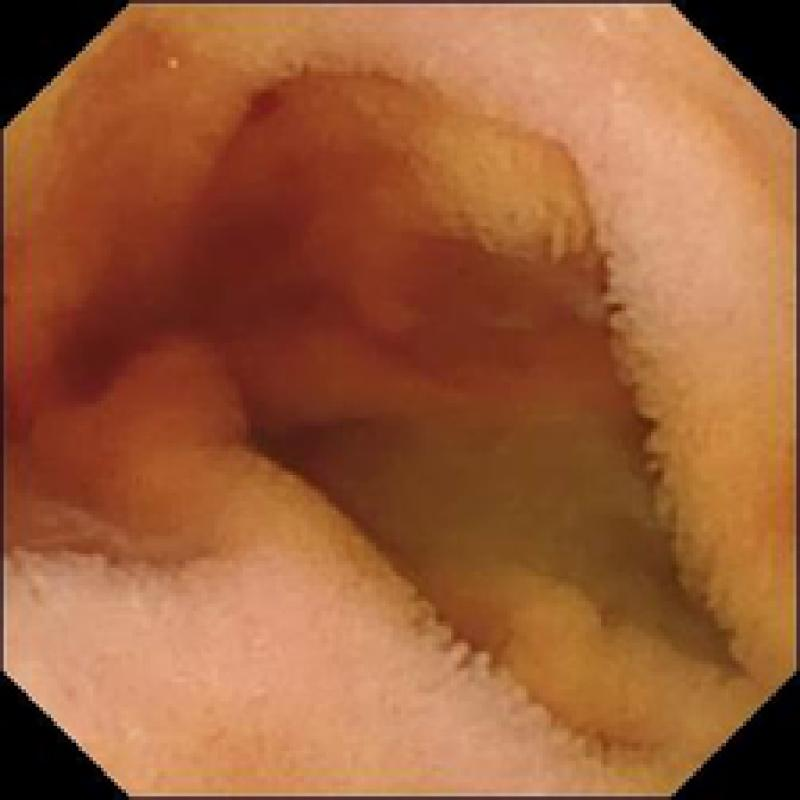bleeding: (0, 57, 425, 425)
